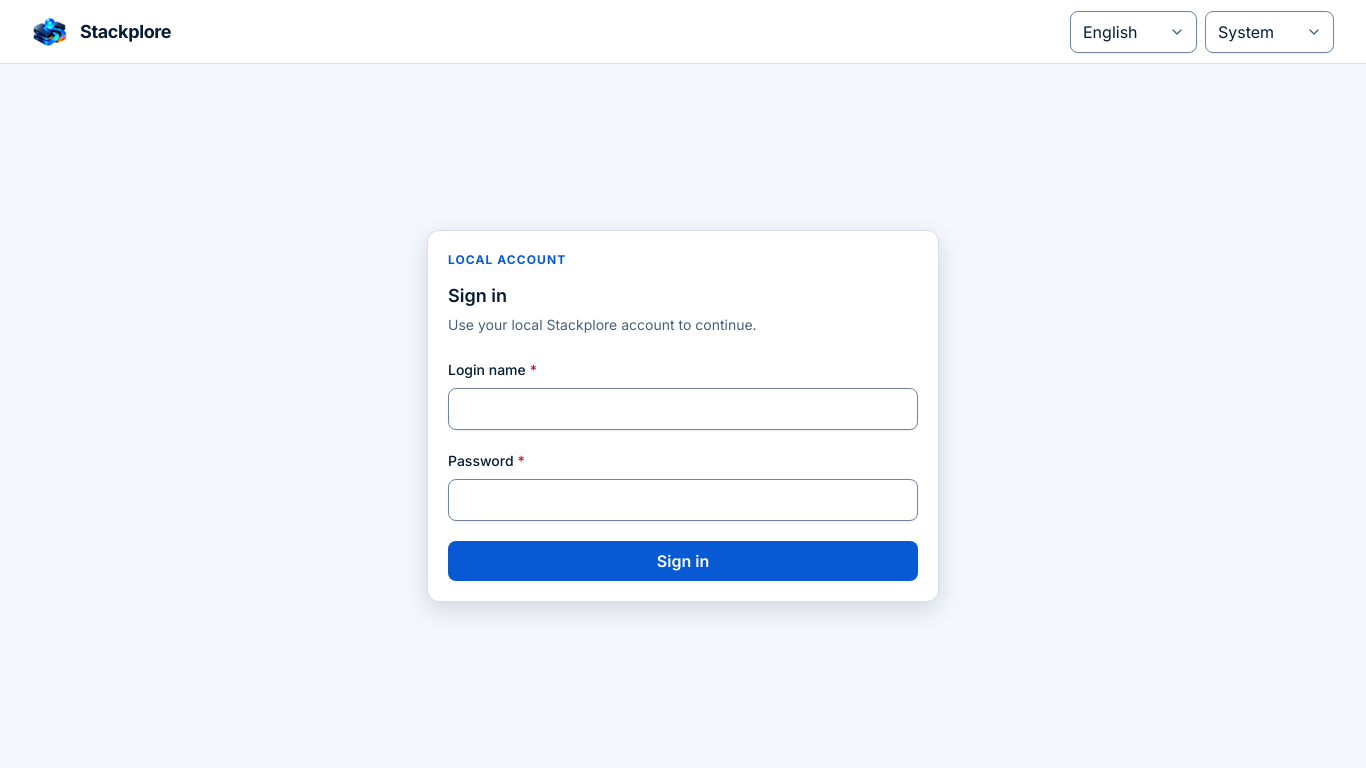
auth routes and forms › clears the password after a rejected login
Type "operator" into the field labelled "Login name*".
click(683, 409); type("operator")  # box x1=448 y1=388 x2=918 y2=430
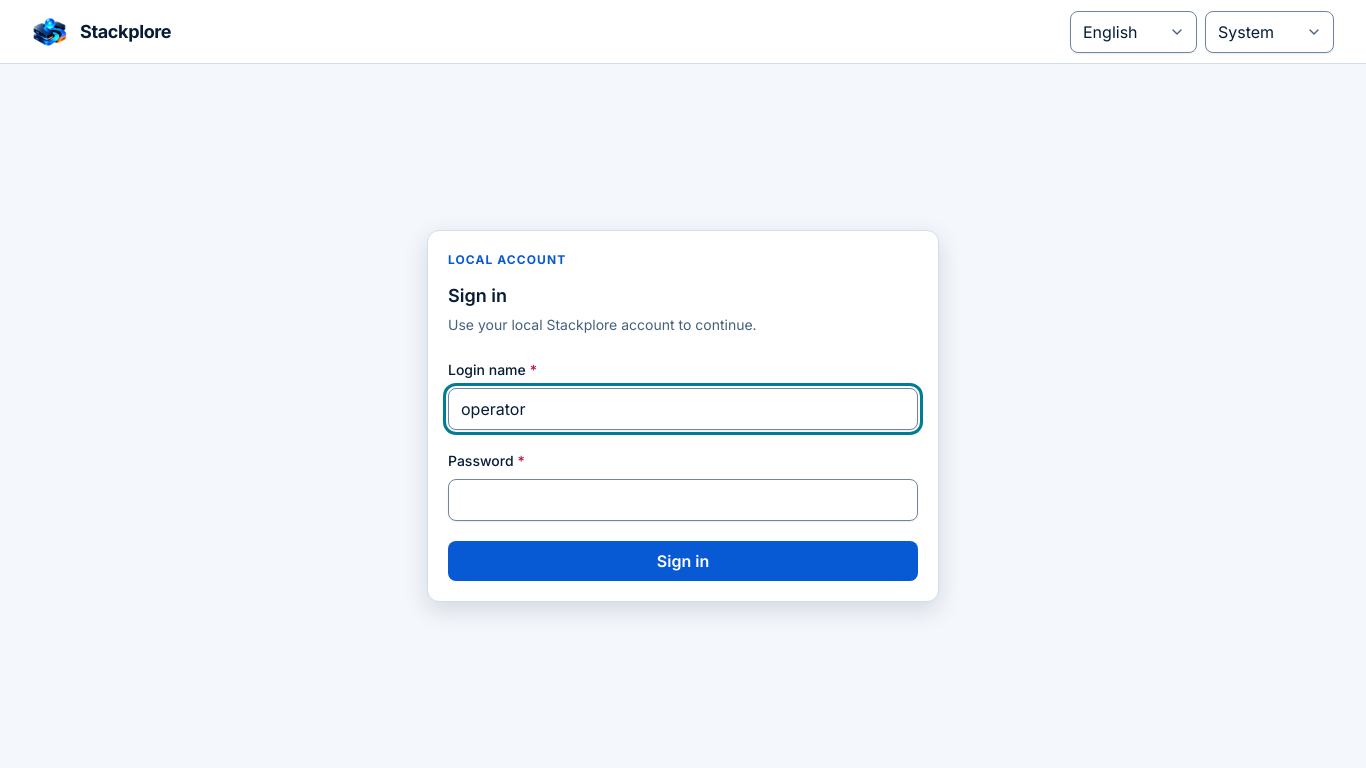
Type "long-password" into the password field labelled "Password*".
click(683, 500); type("long-password")  # box x1=448 y1=479 x2=918 y2=521
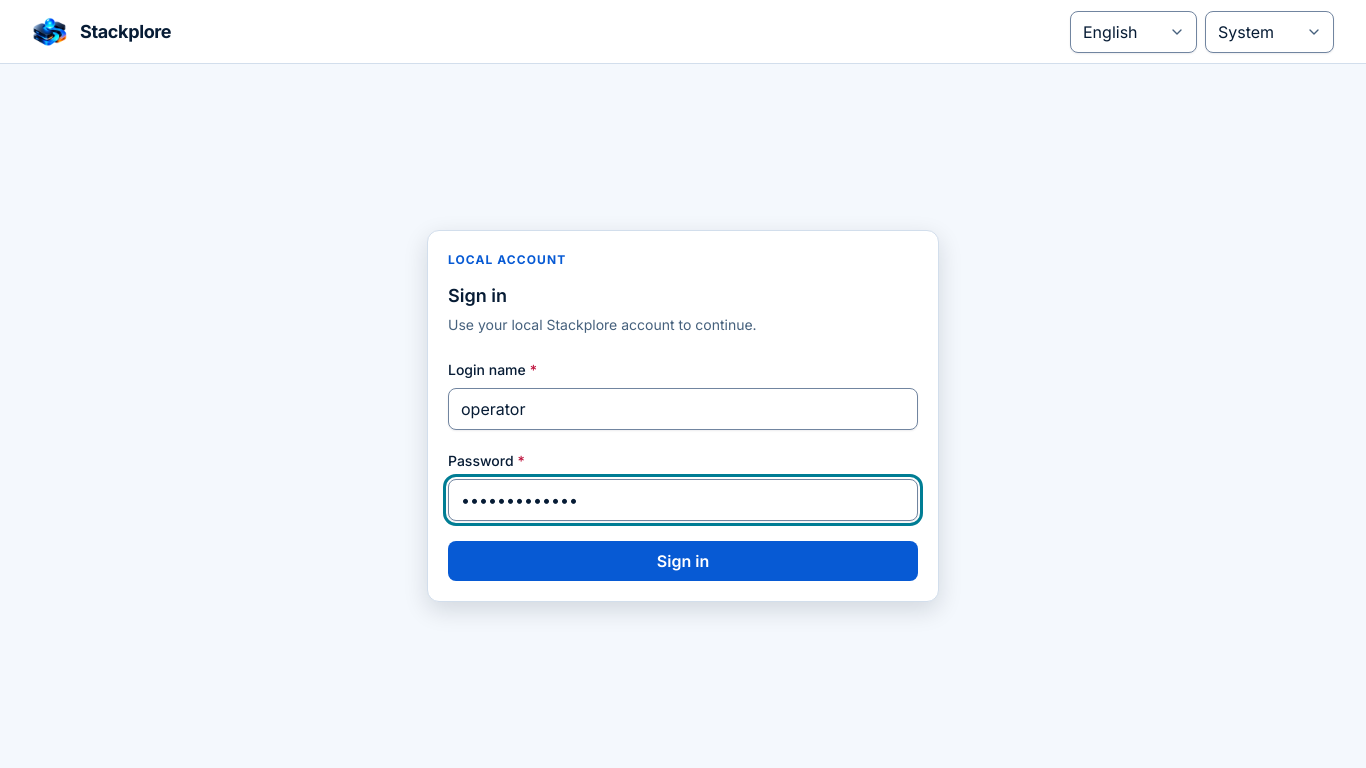
Click the button "Sign in".
click(683, 561)  # box x1=448 y1=541 x2=918 y2=581
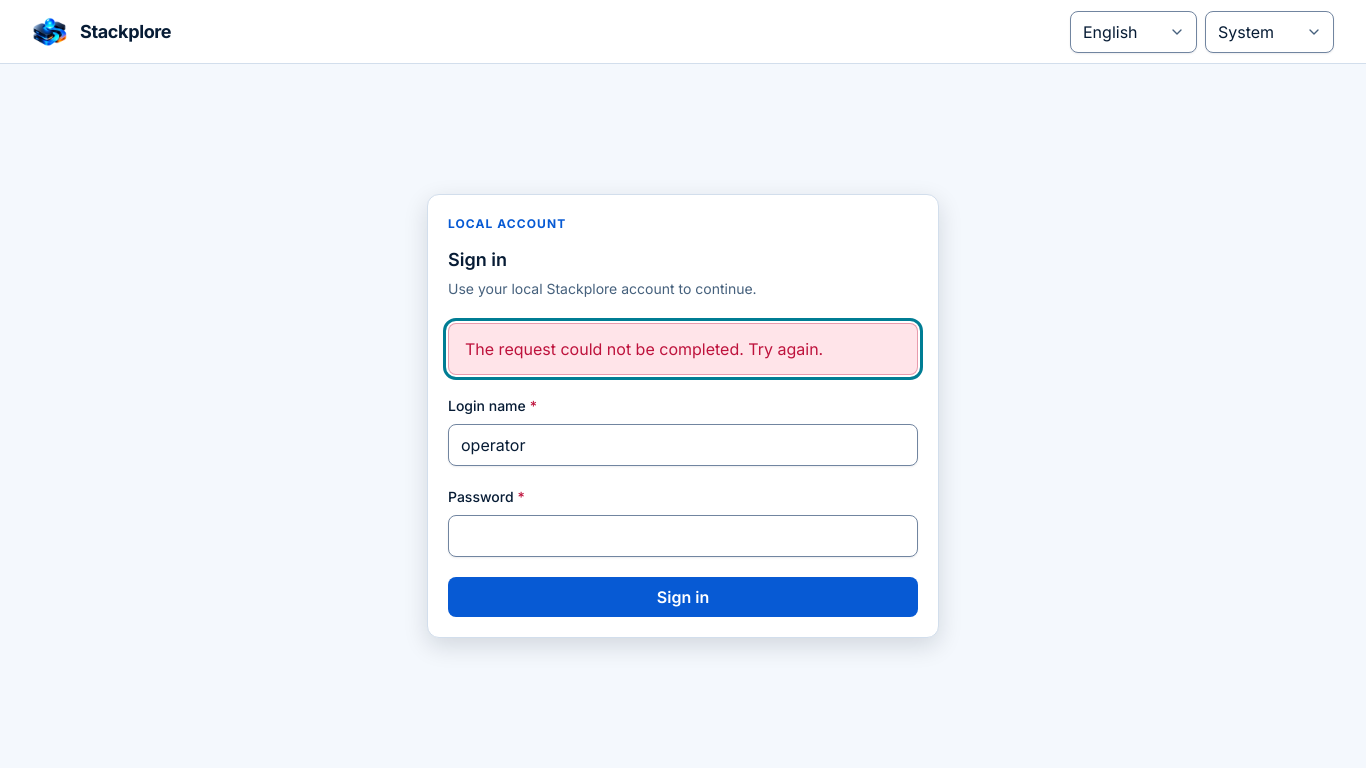
Expected: the text "The request could not be completed. Try again." is shown, x1=448 y1=323 x2=918 y2=376
Expected: the password field labelled "Password*" is empty, x1=448 y1=516 x2=918 y2=558
